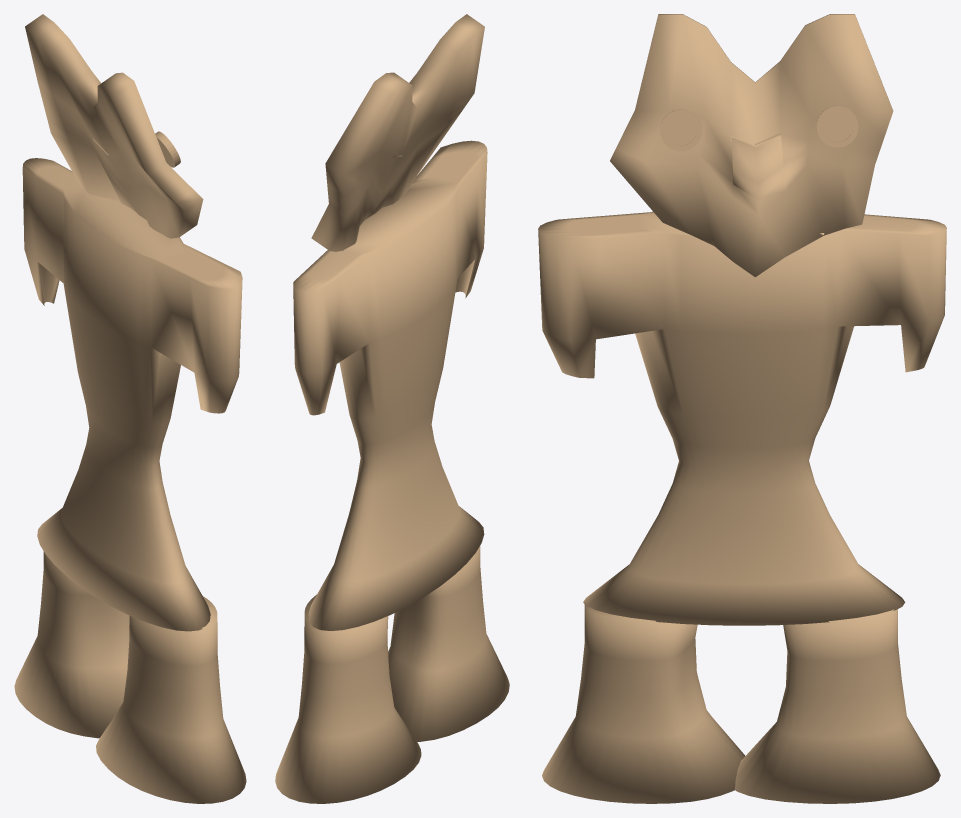
File: hart-3.glb
The picture shows the model from 3 angles, left to right: view 1: azimuth 30°, elevation 25°; view 2: azimuth 150°, elevation 25°; view 3: azimuth 270°, elevation 25°; orthographic projection. The views are drawn at different scales.
Visible parts, largest first — view 1: 円柱.001; view 2: 円柱.001; view 3: 円柱.001.
Boxes of the visible parts, x1,y1,x2,y2 form: 円柱.001: (14, 14, 246, 803); 円柱.001: (275, 14, 509, 803); 円柱.001: (538, 14, 946, 803).
Size of the model in its own units: 0.6356 by 3.88 by 1.94.
